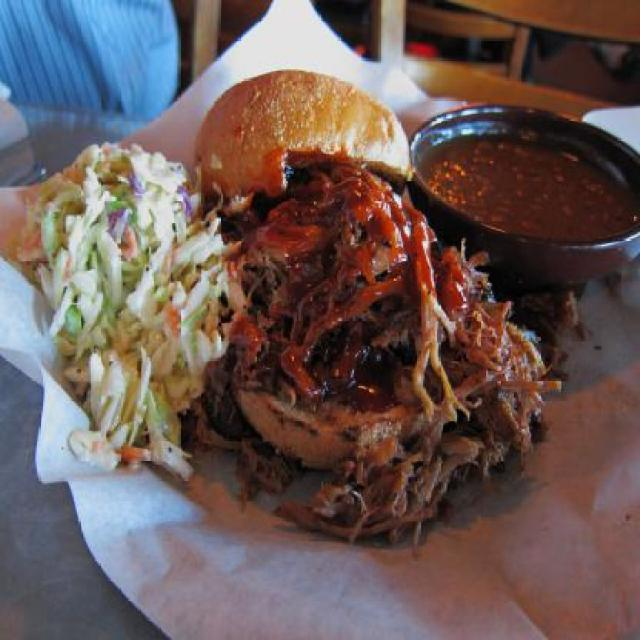Salad: (8, 129, 235, 491)
